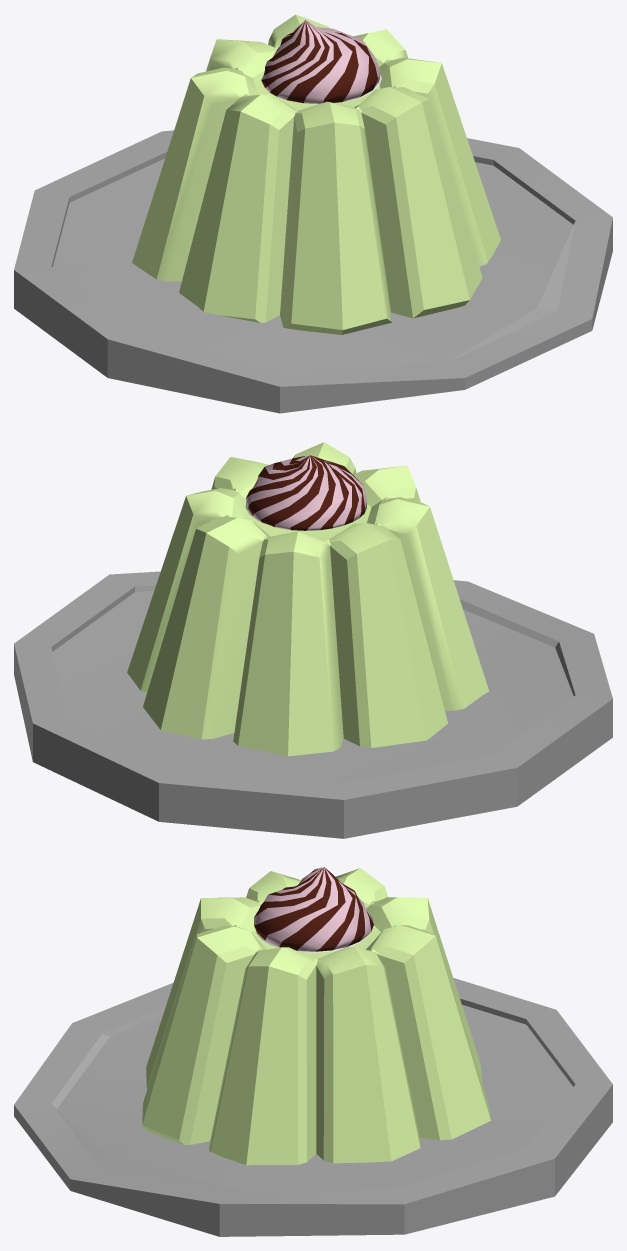
File: Jello 2.fbx
The picture shows the model from 3 angles, top to bottom: view 1: azimuth 30°, elevation 25°; view 2: azimuth 150°, elevation 25°; view 3: azimuth 270°, elevation 25°; orthographic projection. The views are drawn at different scales.
Parts seen in each view (by area): view 1: pCylinder6, pCylinder7, Circle; view 2: pCylinder7, pCylinder6, Circle; view 3: pCylinder6, pCylinder7, Circle.
Boxes of the visible parts, x1,y1,x2,y2 form: pCylinder6: [132, 14, 500, 334]; pCylinder7: [14, 130, 612, 413]; Circle: [261, 20, 381, 103]; pCylinder7: [14, 571, 612, 838]; pCylinder6: [127, 442, 489, 756]; Circle: [245, 455, 366, 530]; pCylinder6: [142, 868, 490, 1165]; pCylinder7: [14, 978, 612, 1236]; Circle: [254, 867, 373, 952].
Size of the model in its own units: 7 by 3.47 by 7.35.
